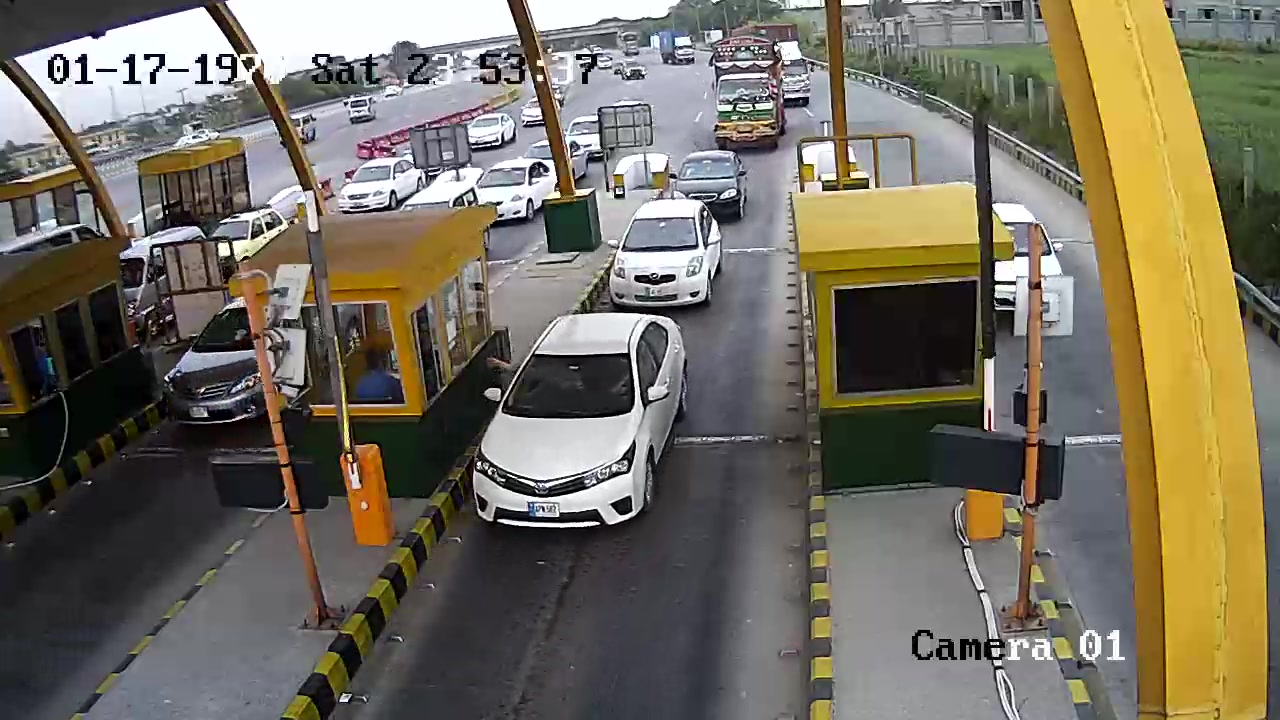F1: (468, 312, 708, 529)
